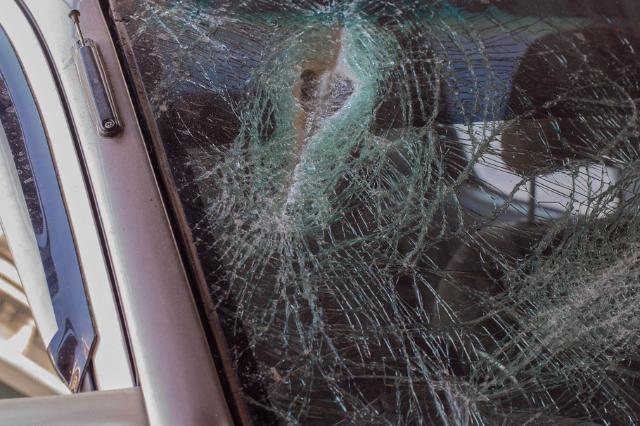Windshield: (100, 0, 638, 425)
